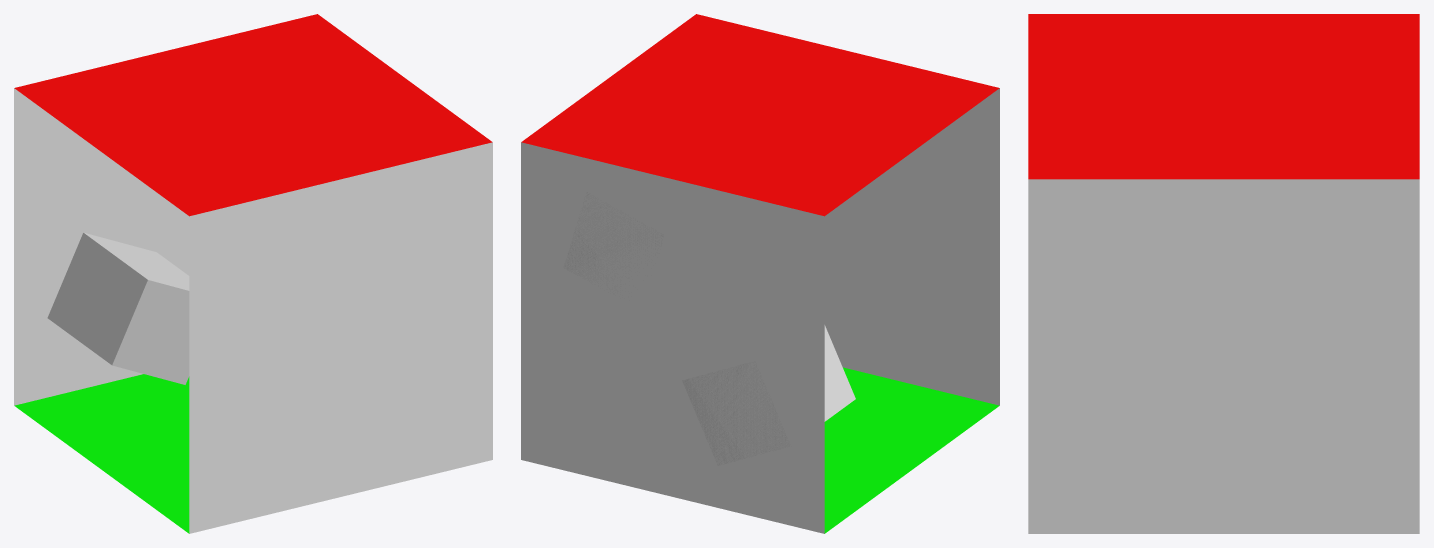
The model's file is cornellbox.obj.
The picture shows the model from 3 angles, left to right: view 1: azimuth 30°, elevation 25°; view 2: azimuth 150°, elevation 25°; view 3: azimuth 270°, elevation 25°; orthographic projection. The views are drawn at different scales.
Visible parts, largest first — view 1: Back, LeftWall, FrontCube, RightWall, Back.001; view 2: Back, LeftWall, RightWall, Back.001, FrontCube, BackCube; view 3: Back, LeftWall.
Boxes of the visible parts, <box> form: Back: <box>14,88,492,533</box>; LeftWall: <box>14,14,492,216</box>; FrontCube: <box>47,232,189,384</box>; RightWall: <box>14,374,189,533</box>; Back.001: <box>283,264,398,412</box>; Back: <box>521,88,999,533</box>; LeftWall: <box>521,14,999,216</box>; RightWall: <box>824,367,999,533</box>; Back.001: <box>824,162,905,283</box>; FrontCube: <box>682,325,855,465</box>; BackCube: <box>564,192,663,293</box>; Back: <box>1028,179,1419,533</box>; LeftWall: <box>1028,14,1419,179</box>.
Size of the model in its own units: 2 by 2 by 2.
